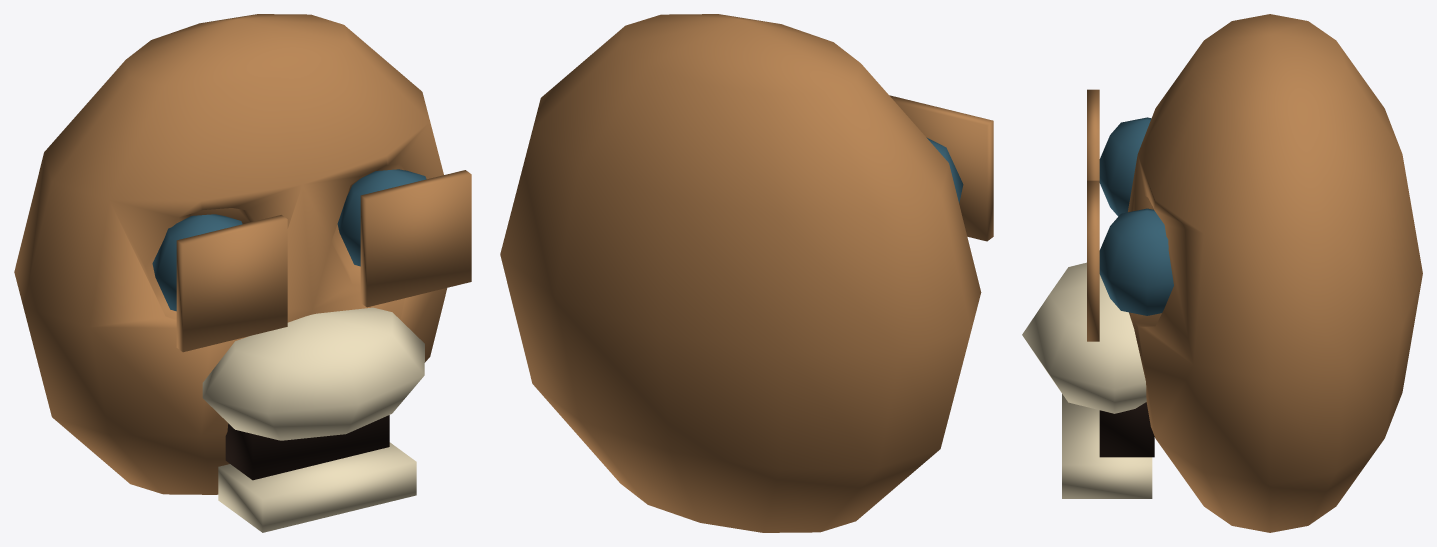
The model's file is combined.glb.
3 renders of one model, left to right at view 1: azimuth 30°, elevation 25°; view 2: azimuth 150°, elevation 25°; view 3: azimuth 270°, elevation 25°, orthographic. The views are drawn at different scales.
Visible parts, largest first — view 1: sample_head, sample_upper_muzzle, sample_lid_L, sample_lid_R, sample_lower_jaw, sample_mouth_cavity, sample_eye_L, sample_eye_R; view 2: sample_head, sample_lid_L; view 3: sample_head, sample_upper_muzzle, sample_eye_R, sample_lower_jaw, sample_eye_L, sample_mouth_cavity, sample_lid_R, sample_lid_L.
Part boxes in pixels (x1,y1,x2,y2): sample_head: (14,14,447,494); sample_upper_muzzle: (202,307,424,440); sample_lid_L: (176,215,287,352); sample_lid_R: (360,170,471,307); sample_lower_jaw: (218,442,416,532); sample_mouth_cavity: (225,415,389,480); sample_eye_L: (152,214,242,311); sample_eye_R: (337,169,426,266); sample_head: (500,14,981,532); sample_lid_L: (889,95,993,241); sample_head: (1128,14,1422,532); sample_upper_muzzle: (1022,262,1146,413); sample_eye_R: (1099,208,1173,315); sample_lower_jaw: (1062,394,1152,498); sample_eye_L: (1099,117,1151,216); sample_mouth_cavity: (1099,402,1154,457); sample_lid_R: (1087,180,1099,341); sample_lid_L: (1087,89,1099,180).
Size of the model in its own units: 2 by 2.1 by 1.6.
